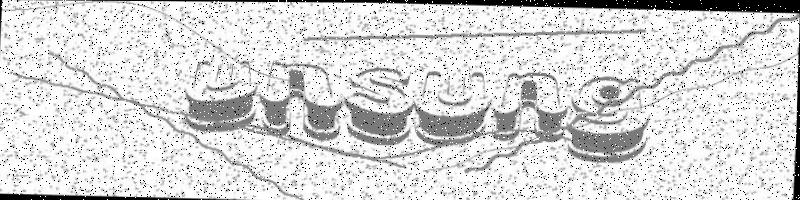g: (568, 74, 652, 161)
n: (257, 61, 345, 141), (492, 71, 570, 141)
s: (344, 66, 415, 143)
u: (412, 70, 491, 143), (185, 61, 259, 131)
